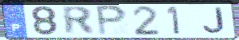1: (165, 6, 181, 36)
2: (131, 5, 162, 36)
8: (31, 5, 60, 36)
J: (202, 7, 227, 35)
P: (94, 4, 129, 37)
R: (61, 5, 98, 36)
